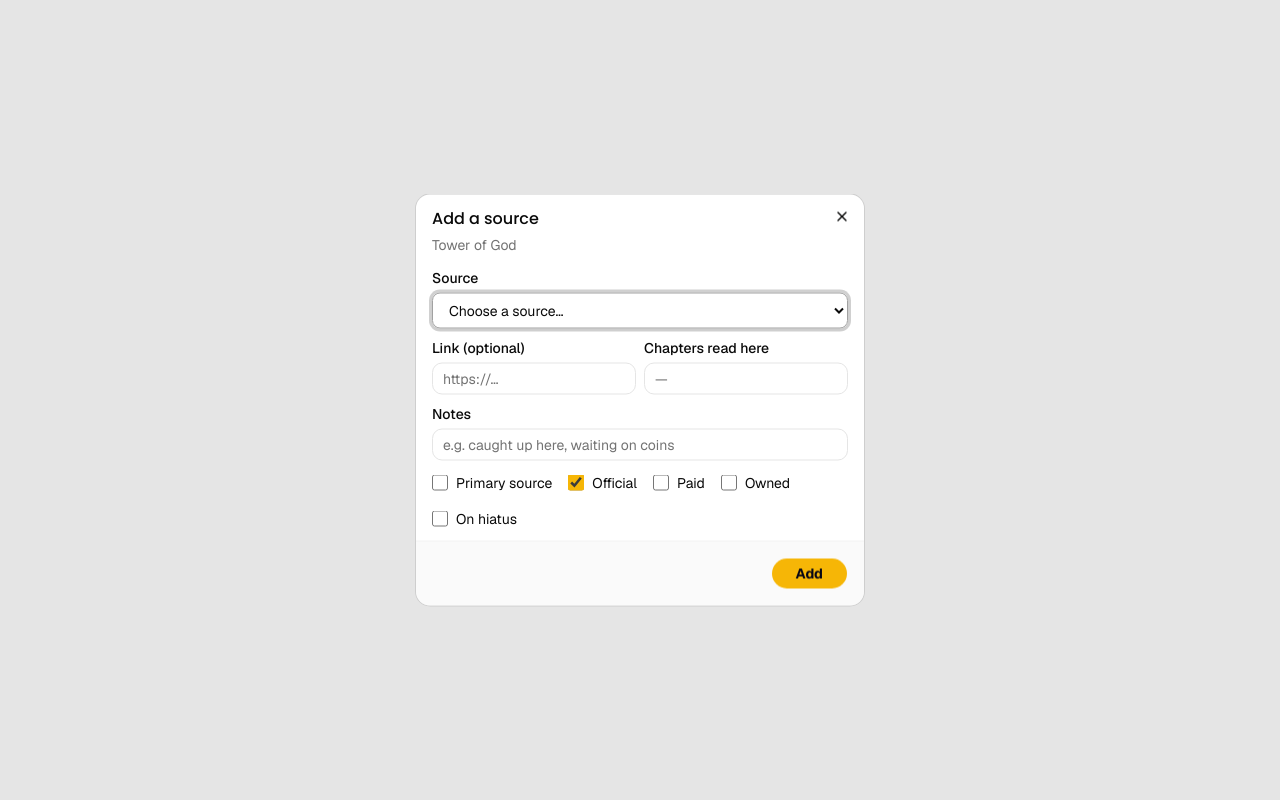
Test: the own-all shortcut › stays out of reach until the owned box is ticked
The image size is (1280, 800).
Check: the button "Own all" is not shown
Check: the button "Own all 179" is not shown
Click the checkbox labelled "Owned": (729, 482) [721,474,737,490]
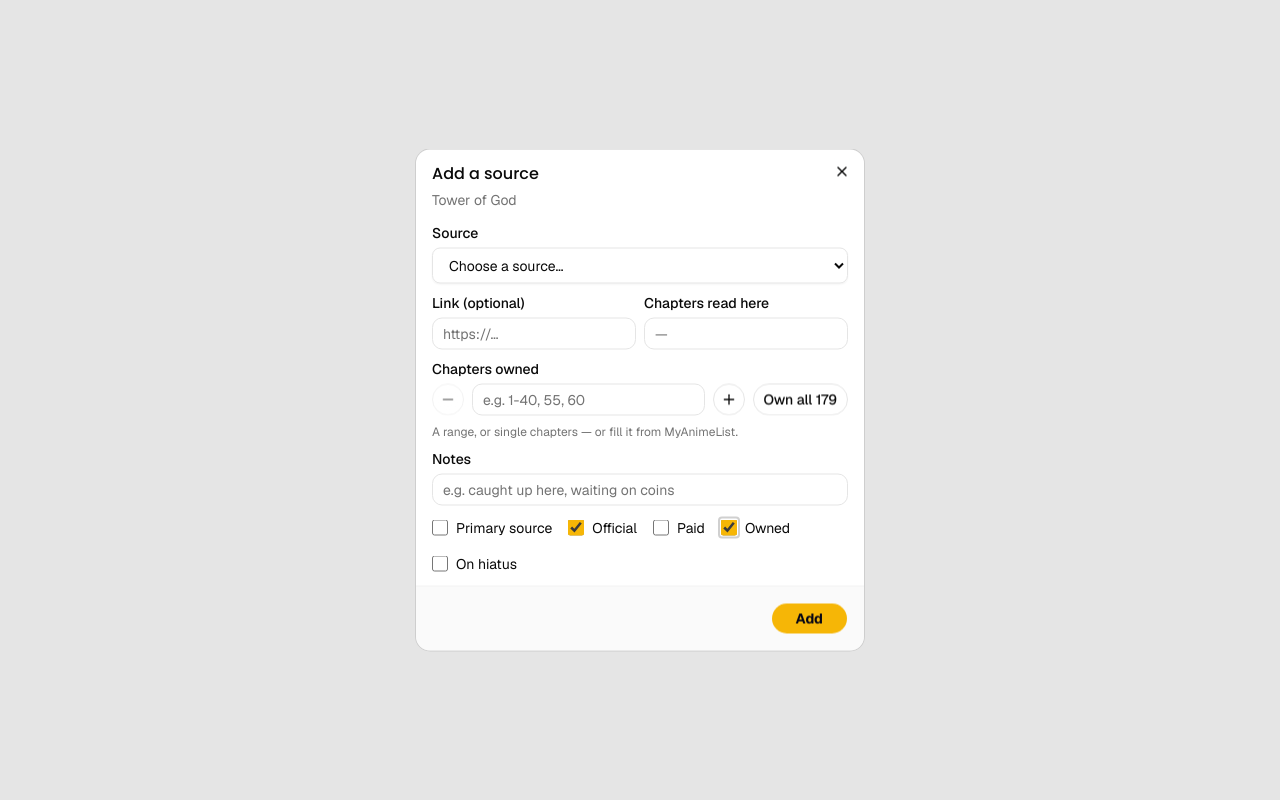
Check: the button "Own all 179" is shown, box [752,384,848,416]
